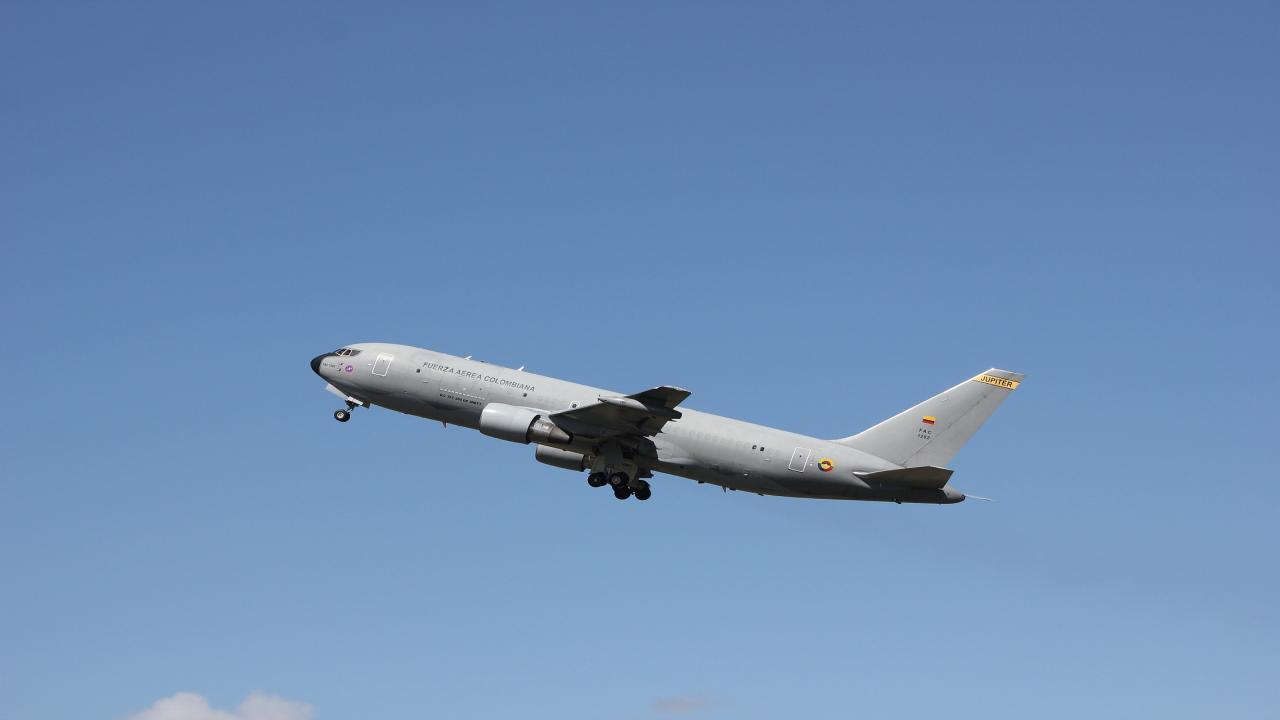Airplane: (301, 317, 1038, 528)
